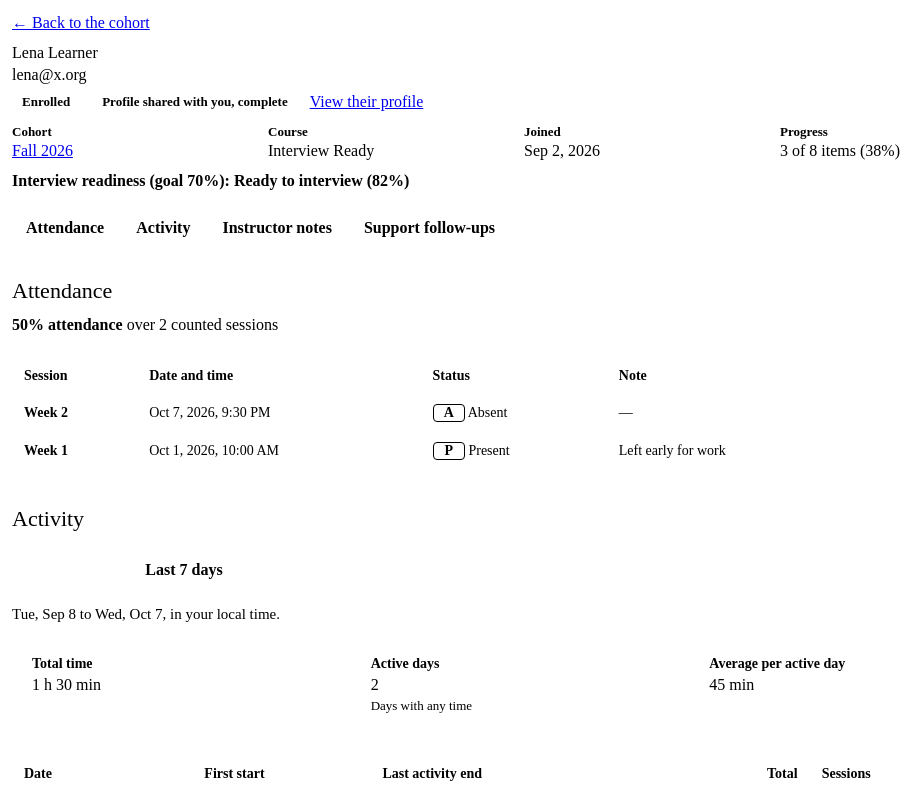
LearnerRecordPage › loads the last 7 days from the activity endpoint only when chosen
Click the button "Last 7 days" at coordinates (184, 570), box x1=129 y1=548 x2=239 y2=592
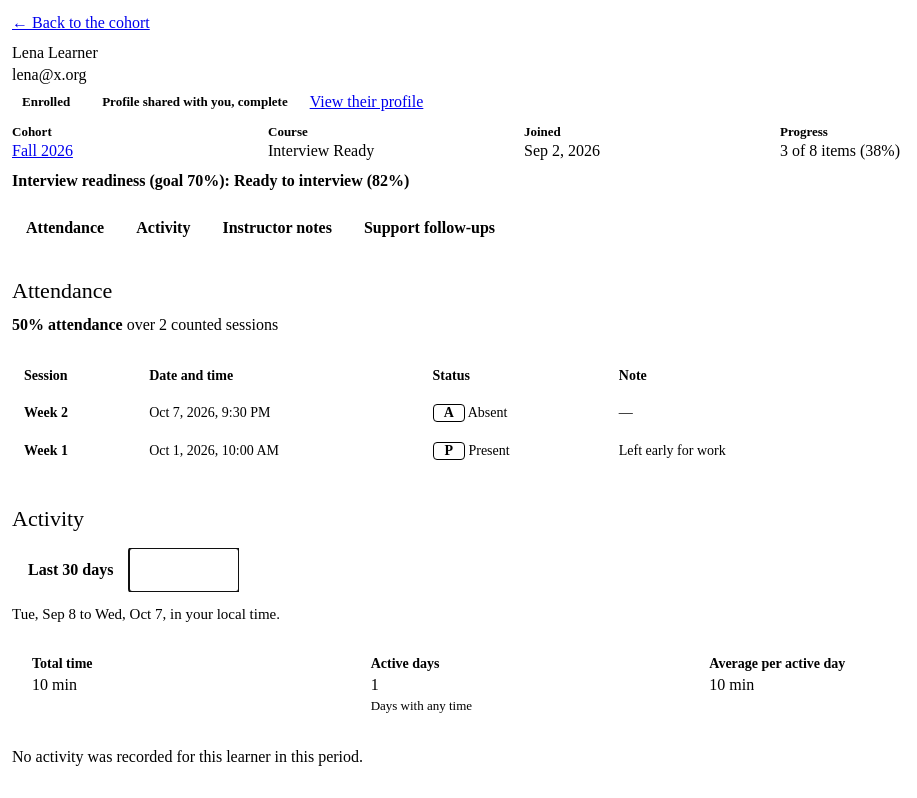
Expected: the text "10 min" is shown 2 times, x1=32 y1=676 x2=77 y2=693; x1=709 y1=676 x2=754 y2=693
Expected: the text "No activity was recorded for this learner in this period." is shown, x1=12 y1=748 x2=363 y2=765
